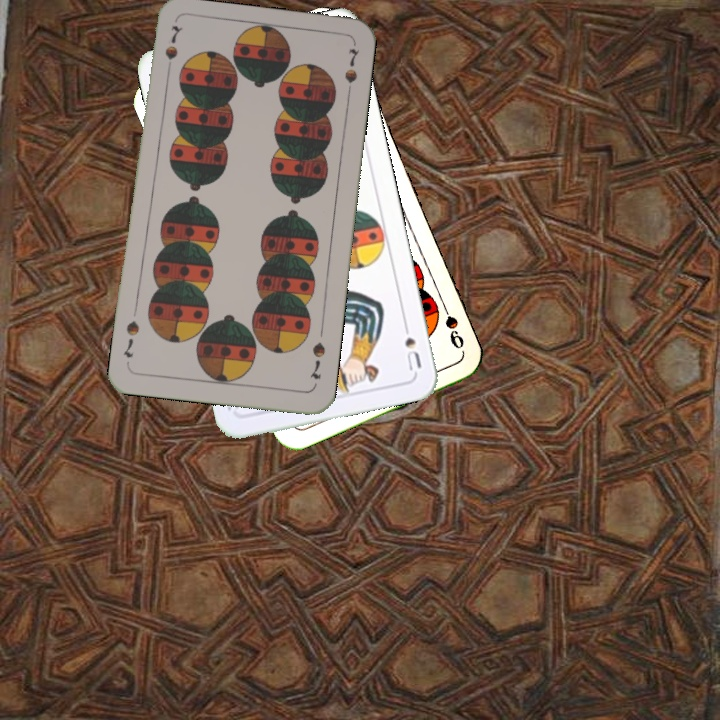S7: (161, 21, 182, 80), (306, 338, 328, 382)
S9: (437, 297, 467, 352)
SU: (399, 316, 424, 373)
